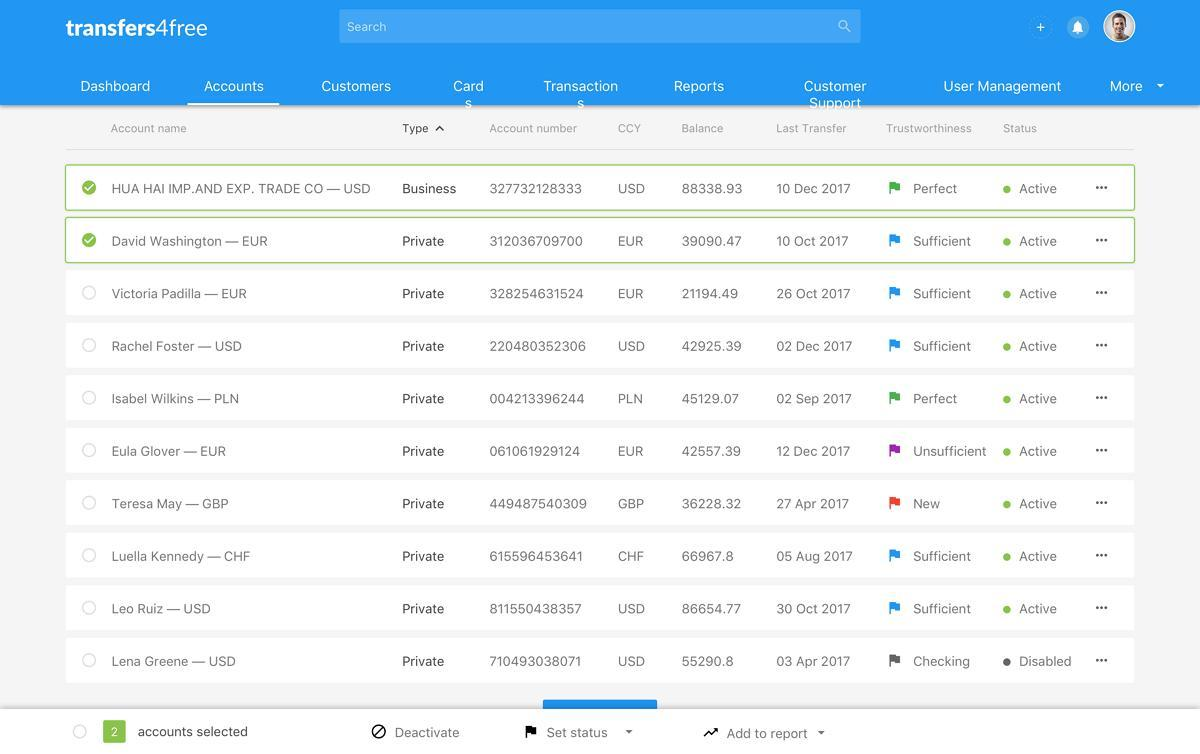dropdown: (727, 725, 830, 744), (548, 725, 636, 745), (399, 118, 457, 145), (1109, 76, 1173, 99)
icon: (523, 723, 540, 746), (701, 725, 721, 743), (888, 180, 904, 198), (372, 724, 388, 741), (889, 443, 903, 462), (889, 286, 904, 302), (1072, 22, 1086, 38), (890, 392, 904, 408), (889, 496, 903, 512), (890, 601, 903, 618), (890, 654, 902, 671), (890, 339, 902, 355), (890, 234, 902, 249), (890, 549, 902, 564), (1096, 499, 1112, 510), (1093, 237, 1112, 246), (1036, 22, 1048, 35), (1096, 343, 1110, 352), (1095, 394, 1110, 402), (1095, 657, 1110, 665), (1095, 447, 1109, 455), (1096, 553, 1110, 561), (1097, 289, 1109, 298), (1096, 185, 1110, 192), (1095, 606, 1111, 612)
input: (339, 9, 863, 45)
label: (804, 80, 868, 111), (943, 82, 1062, 96), (886, 123, 978, 137), (321, 80, 393, 97), (542, 80, 623, 95), (489, 123, 579, 136), (79, 80, 155, 95), (774, 122, 849, 136), (111, 123, 190, 136), (394, 728, 465, 741), (204, 81, 265, 94), (674, 80, 728, 94), (682, 123, 726, 136), (454, 80, 487, 95), (1003, 124, 1039, 136), (618, 124, 642, 135)
radio: (81, 390, 99, 407), (81, 494, 98, 511), (72, 724, 89, 741), (81, 180, 99, 196), (82, 232, 98, 249), (82, 443, 99, 459), (82, 548, 98, 565), (82, 601, 99, 617), (83, 338, 98, 355), (81, 286, 97, 301), (82, 654, 98, 669)
table: (66, 164, 1136, 684)
